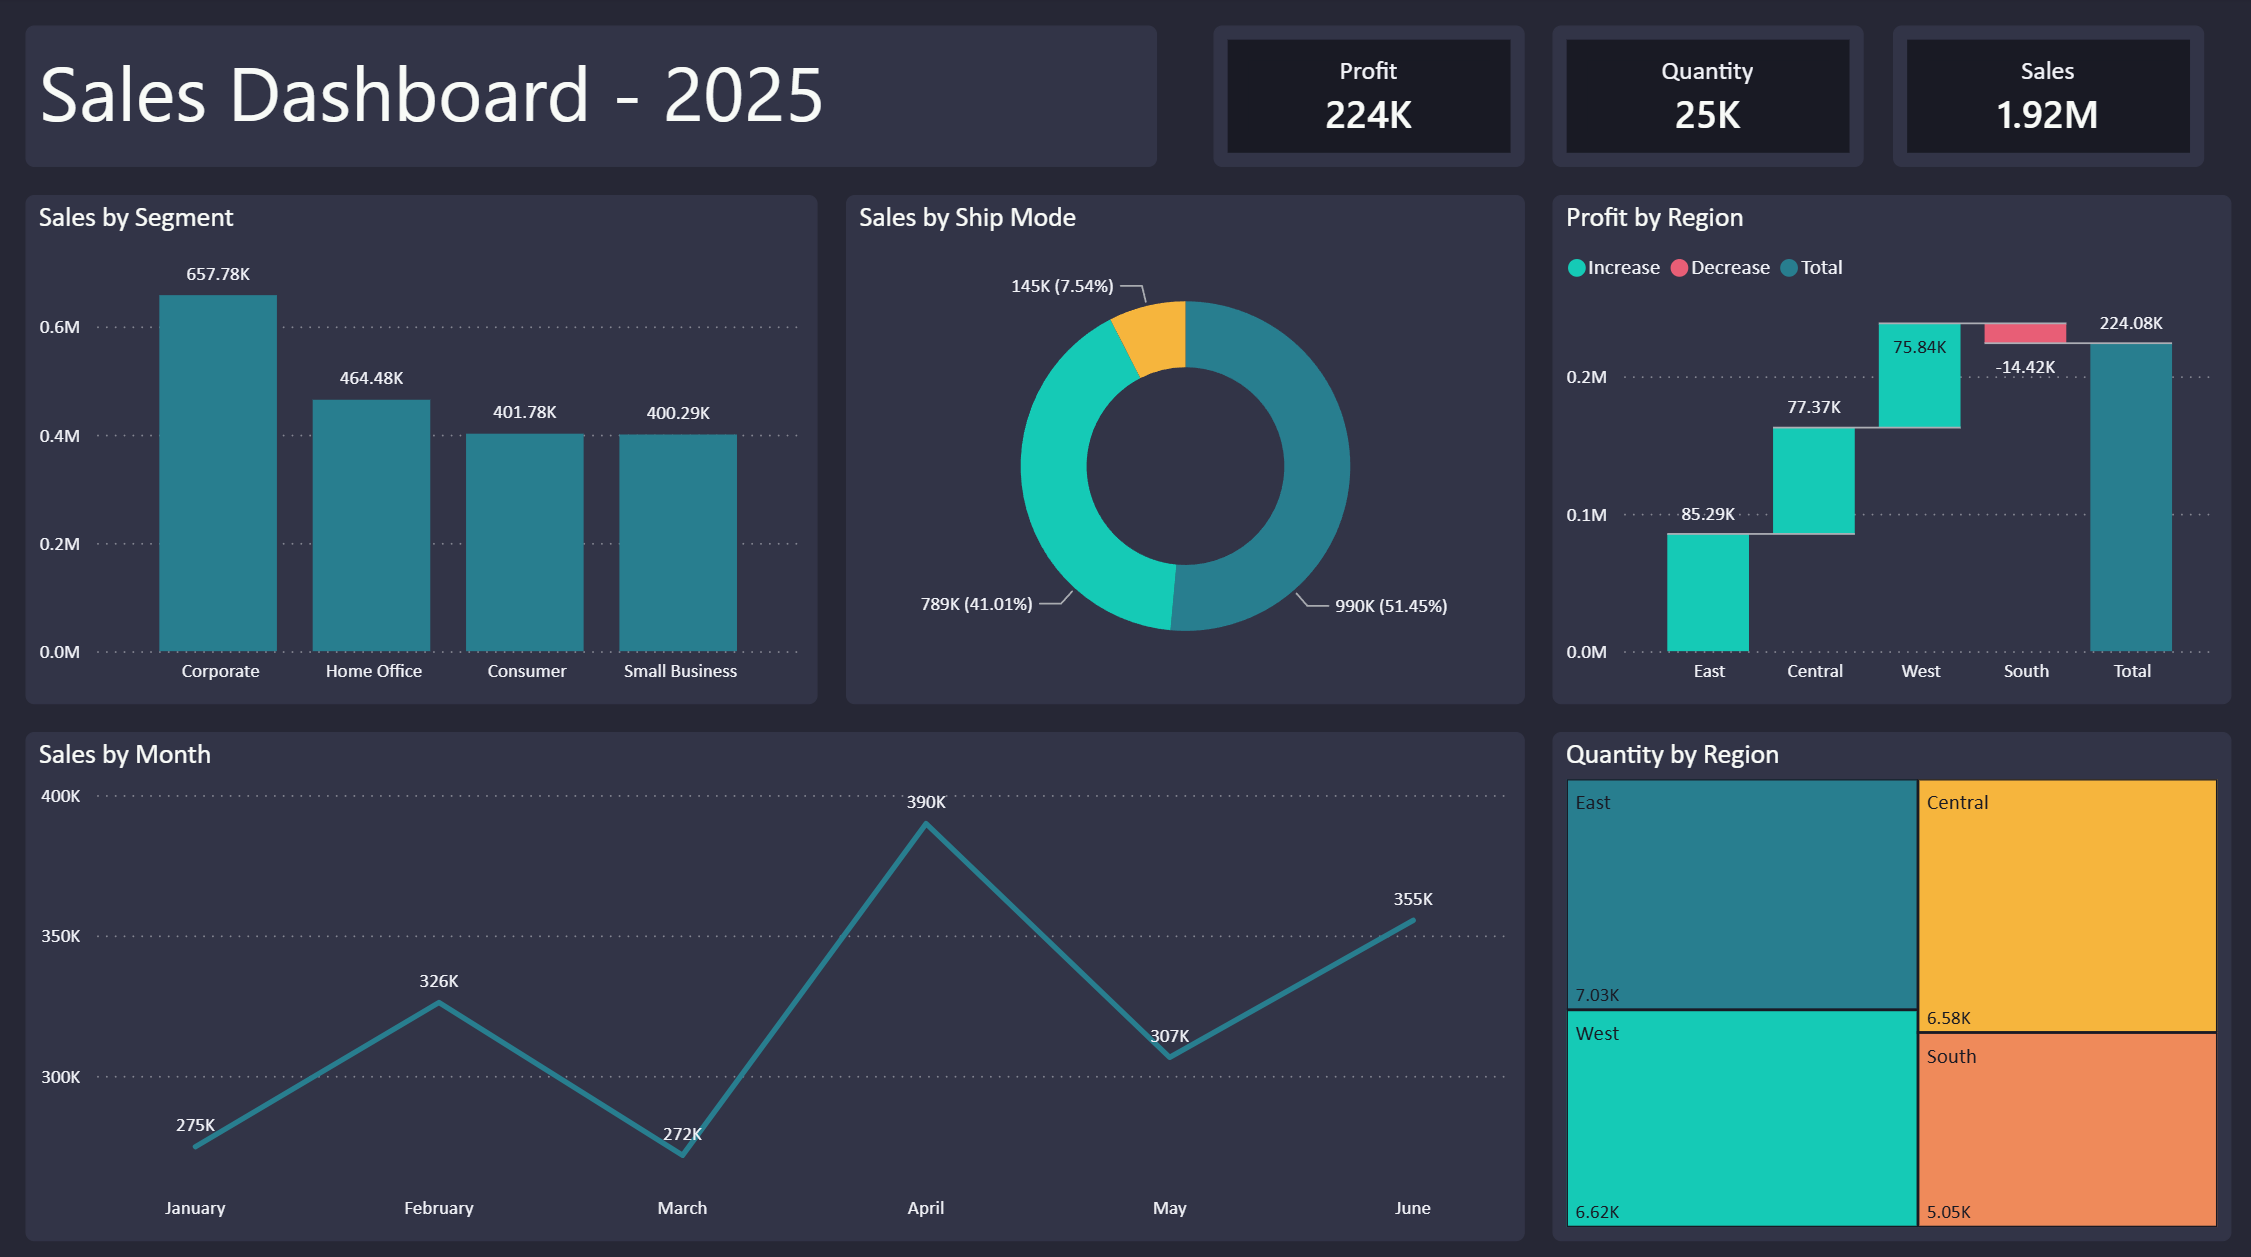

This screenshot's page, from the dashboard's own definition file:
{"tool":"powerbi","page":{"name":"Page 1","canvas":[1280,720],"ordinal":0},"visuals":[{"type":"clusteredColumnChart","title":"Sales by Segment","fields":{"Category":["Orders.Customer Segment"],"Y":["Sum(Orders.Sales)"]},"box":[16,112,448,288],"z":0},{"type":"donutChart","title":"Sales by Ship Mode","fields":{"Category":["Orders.Ship Mode"],"Y":["Sum(Orders.Sales)"]},"box":[480,112,384,288],"z":1000},{"type":"waterfallChart","title":"Profit by Region","fields":{"Category":["Orders.Region"],"Y":["Sum(Orders.Profit)"]},"box":[880,112,384,288],"z":2000},{"type":"lineChart","title":" Sales by Month","fields":{"Category":["Orders.Order Date.Variation.Date Hierarchy.Month"],"Y":["Sum(Orders.Sales)"]},"box":[16,416,848,288],"z":3000},{"type":"treemap","title":"Quantity by Region","fields":{"Values":["Sum(Orders.Quantity ordered new)"],"Group":["Orders.Region"]},"box":[880,416,384,288],"z":4000},{"type":"textbox","box":[16,16,640,80],"z":6000},{"type":"cardVisual","fields":{"Data":["Sum(Orders.Profit)"]},"box":[688,16,176,80],"z":7000},{"type":"cardVisual","fields":{"Data":["Sum(Orders.Quantity ordered new)"]},"box":[880,16,176,80],"z":8000},{"type":"cardVisual","fields":{"Data":["Sum(Orders.Sales)"]},"box":[1072,16,176,80],"z":9000}]}

Visuals, with their boxes in screenshot pixels (x1, y1, x2, y2), scaled from the page's 1280x720 canvas onto the 2251x1257 screenshot:
"Sales by Segment" clusteredColumnChart: bbox=[28, 196, 816, 698]
"Sales by Ship Mode" donutChart: bbox=[844, 196, 1519, 698]
"Profit by Region" waterfallChart: bbox=[1548, 196, 2223, 698]
" Sales by Month" lineChart: bbox=[28, 726, 1519, 1229]
"Quantity by Region" treemap: bbox=[1548, 726, 2223, 1229]
textbox: bbox=[28, 28, 1154, 168]
cardVisual - Sum(Orders.Profit): bbox=[1210, 28, 1519, 168]
cardVisual - Sum(Orders.Quantity ordered new): bbox=[1548, 28, 1857, 168]
cardVisual - Sum(Orders.Sales): bbox=[1885, 28, 2195, 168]
